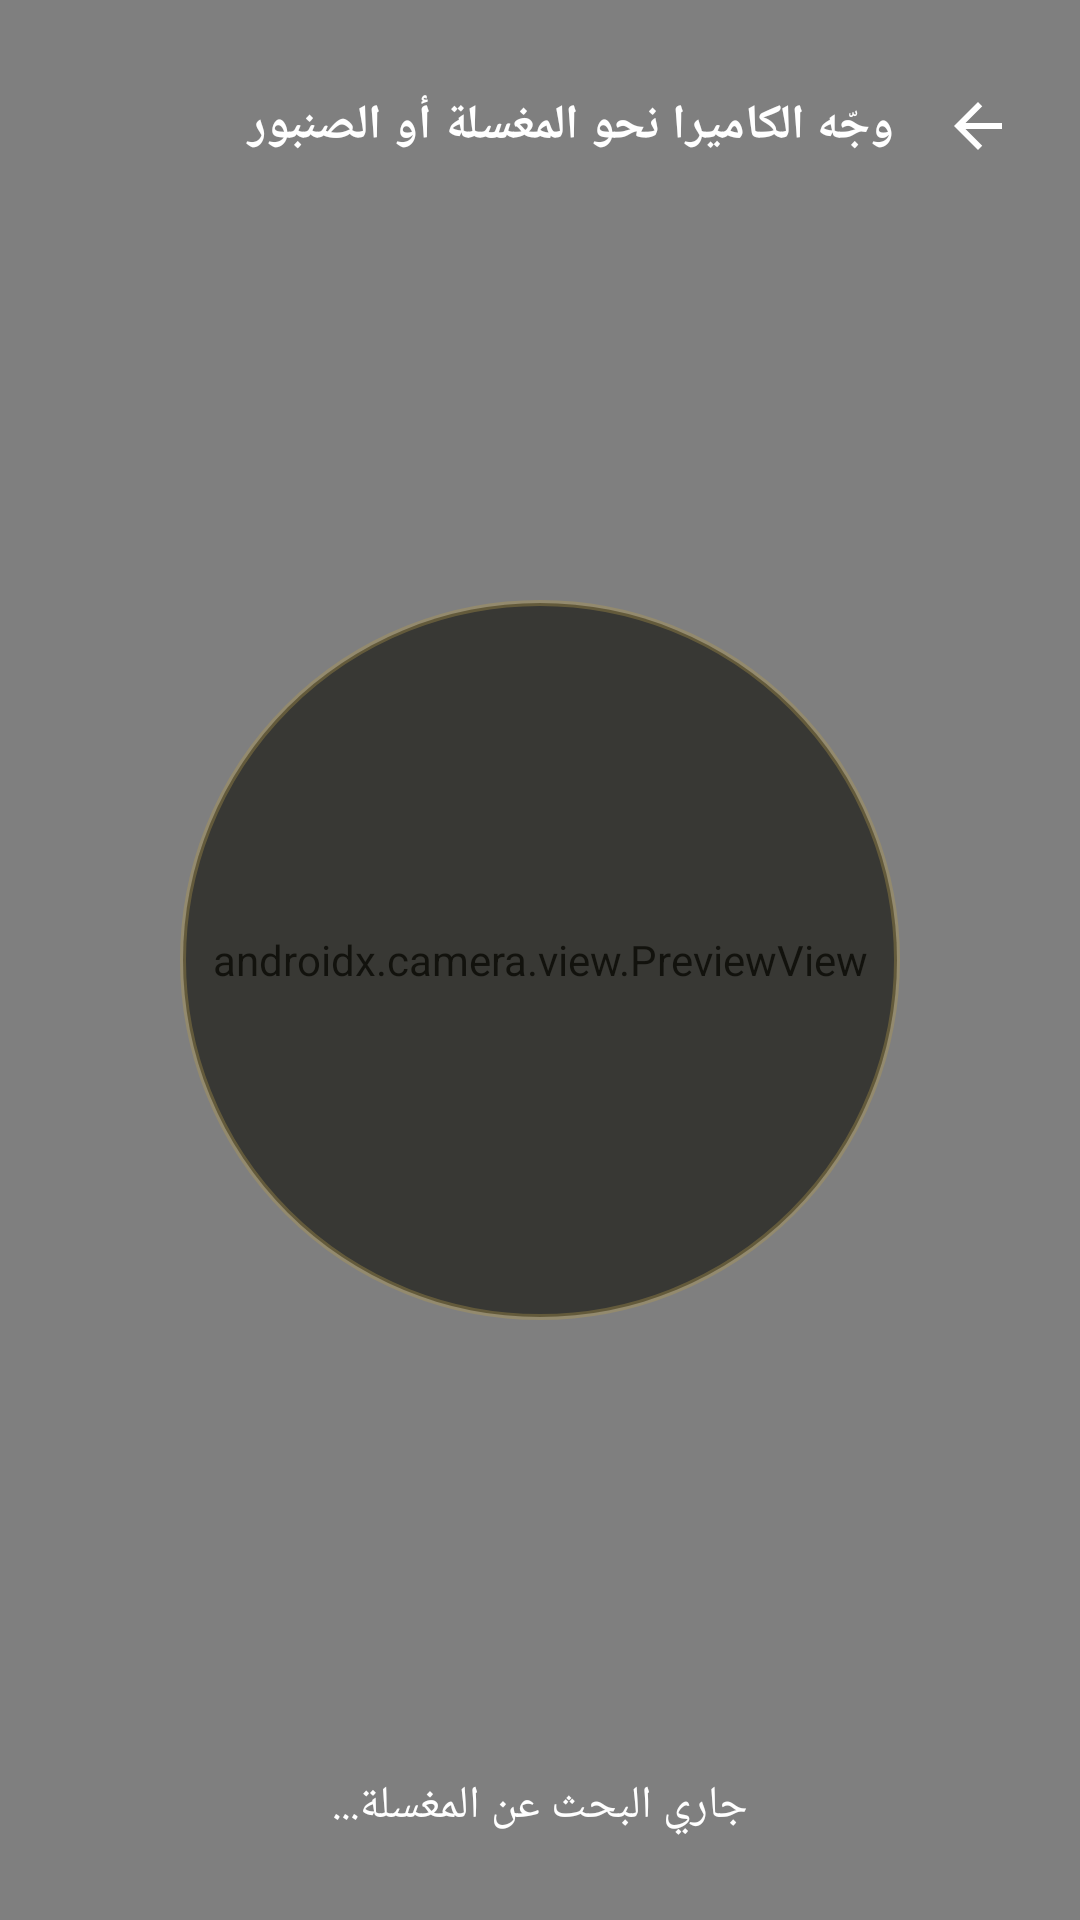

Locate icon controls on the screen. Image size 1080 x 1920, boxes as (x1=x1, y1=y1, x2=x2, y2=y2).
رجوع: (x1=954, y1=102, x2=1002, y2=150)
